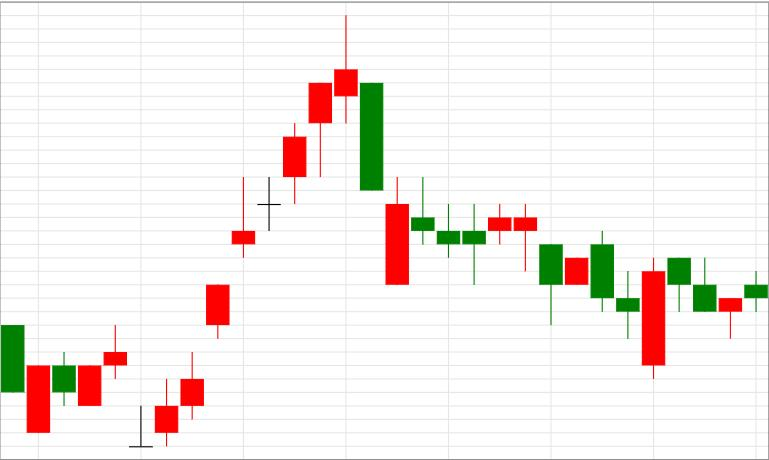bullish_engulfing_rise: (539, 229, 666, 379)
hanging_man_fall: (155, 83, 332, 446)
